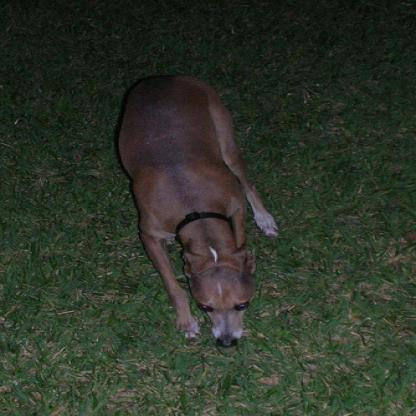dog: (114, 74, 281, 344)
